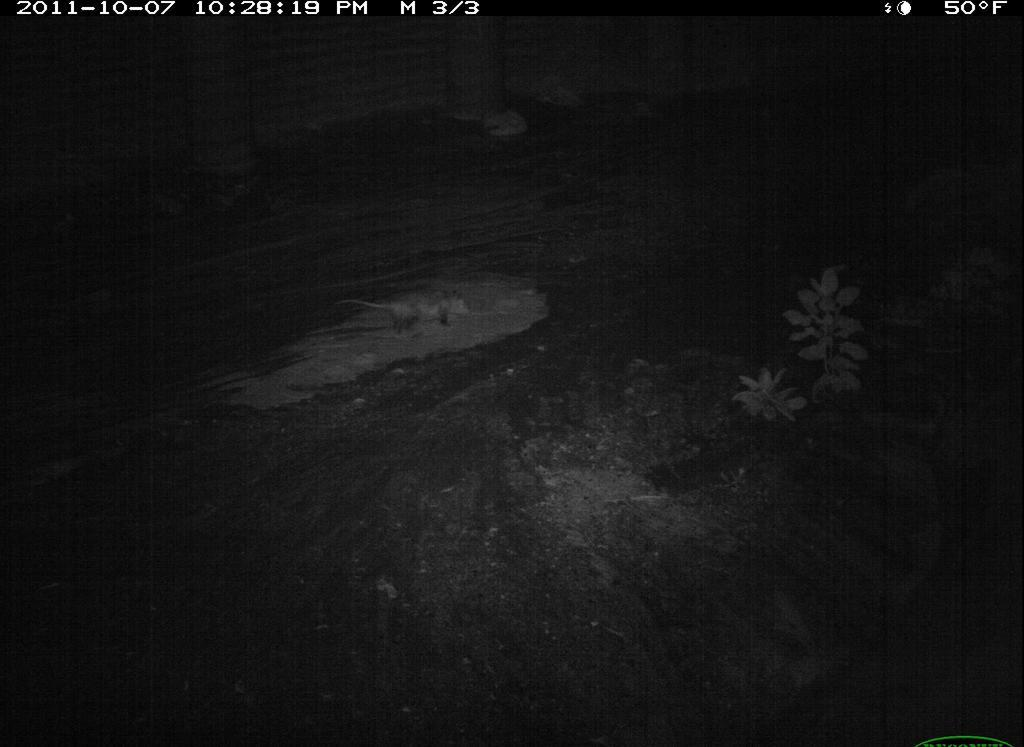opossum: (335, 283, 489, 341)
